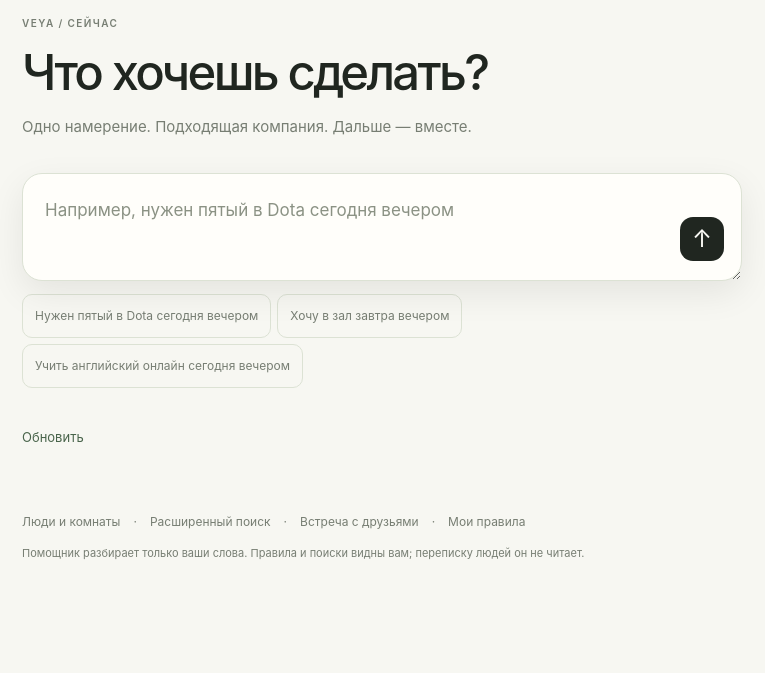
it: minimal intent product › keeps a preference proposal unapplied until confirmation
Check: the button "Обновить" is shown, box [22, 416, 84, 460]
In the text box: (382, 227) [23, 174, 741, 280], type "Не присылай предложения"
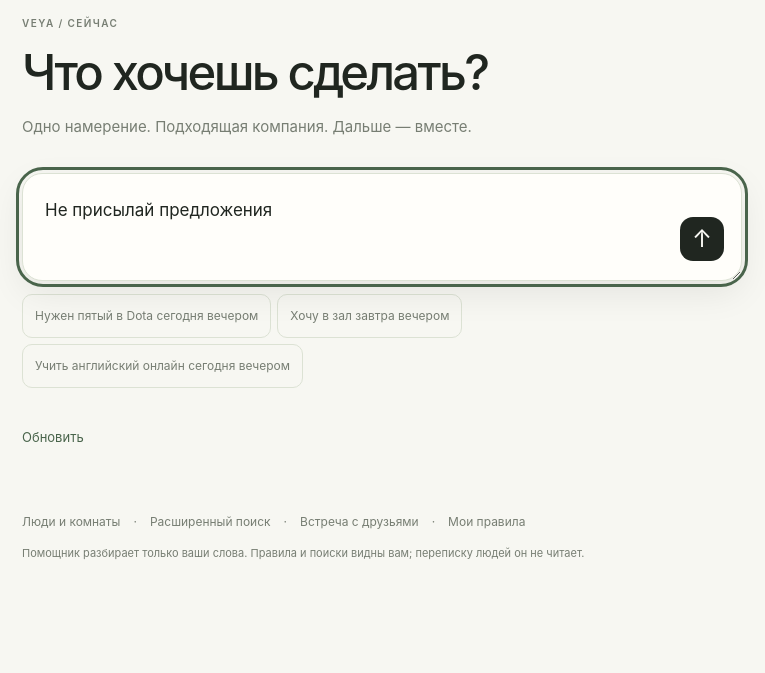
Click the button named "Разобрать намерение": (702, 239) [680, 217, 724, 261]
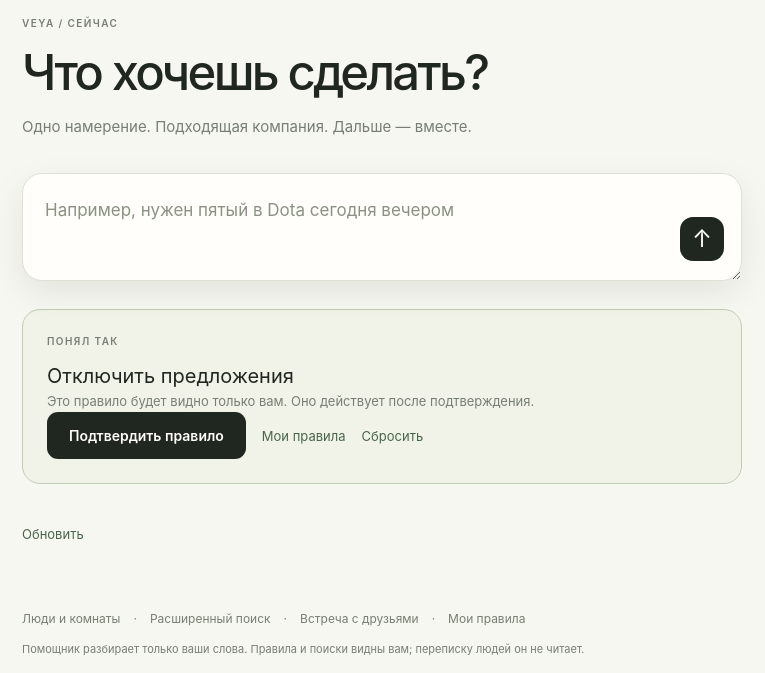
Check: the button "Подтвердить правило" is shown
Click the button "Подтвердить правило": (146, 436) [47, 412, 246, 459]
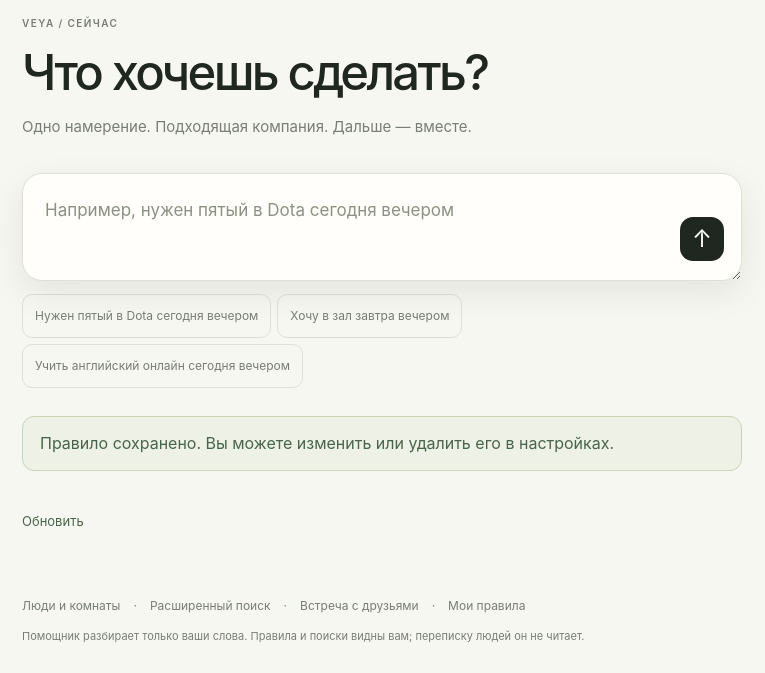
Check: the text "Правило сохранено. Вы можете изменить или удалить его в настройках." is shown, box [22, 416, 742, 472]
